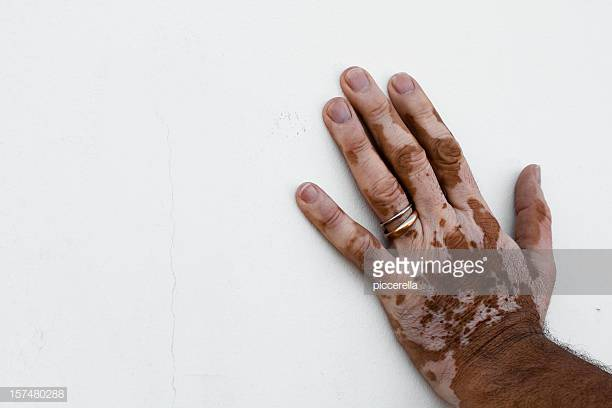vitiligo: (317, 96, 544, 337)
